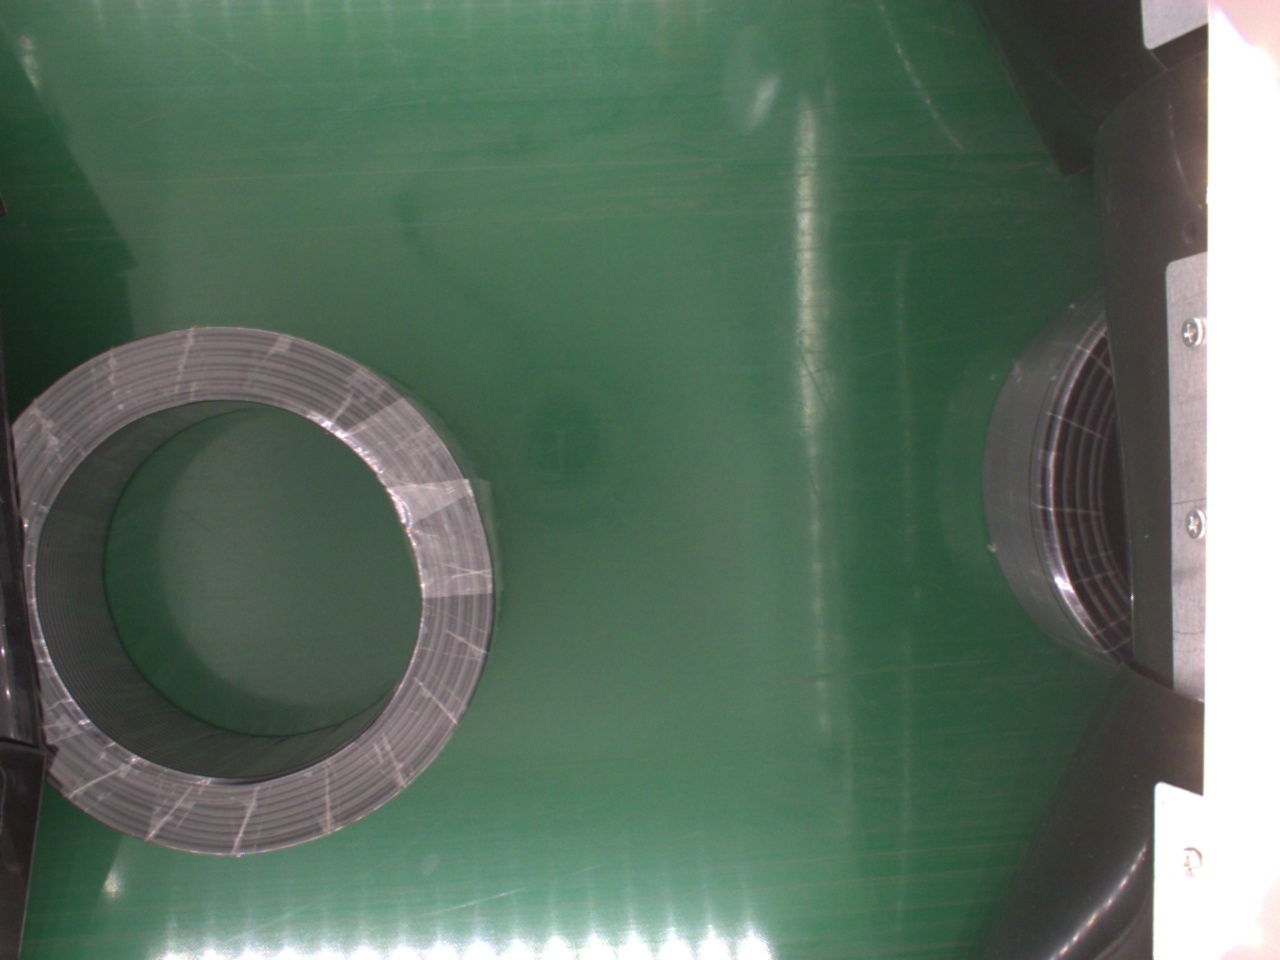black: (13, 325, 494, 859), (978, 299, 1128, 672)
